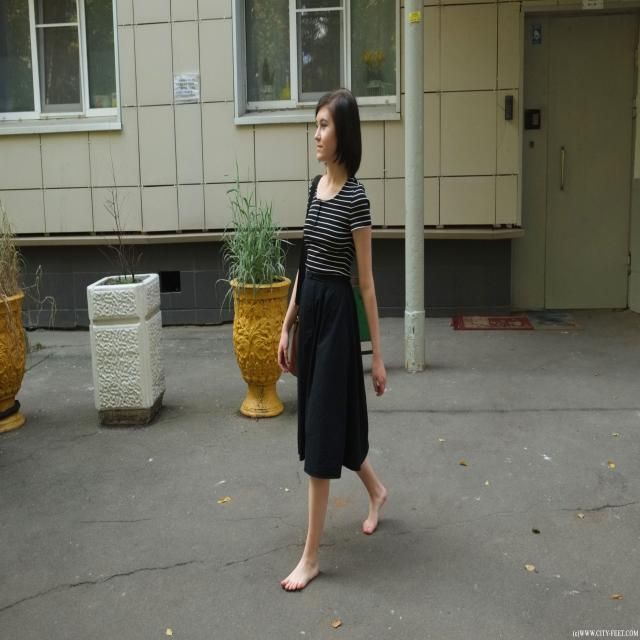Barefoots: (363, 484, 387, 535), (281, 558, 319, 590)
